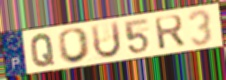3: (187, 6, 215, 49)
5: (122, 17, 152, 56)
O: (57, 26, 93, 65)
Q: (30, 32, 56, 68)
R: (152, 14, 187, 52)
U: (89, 19, 123, 60)
